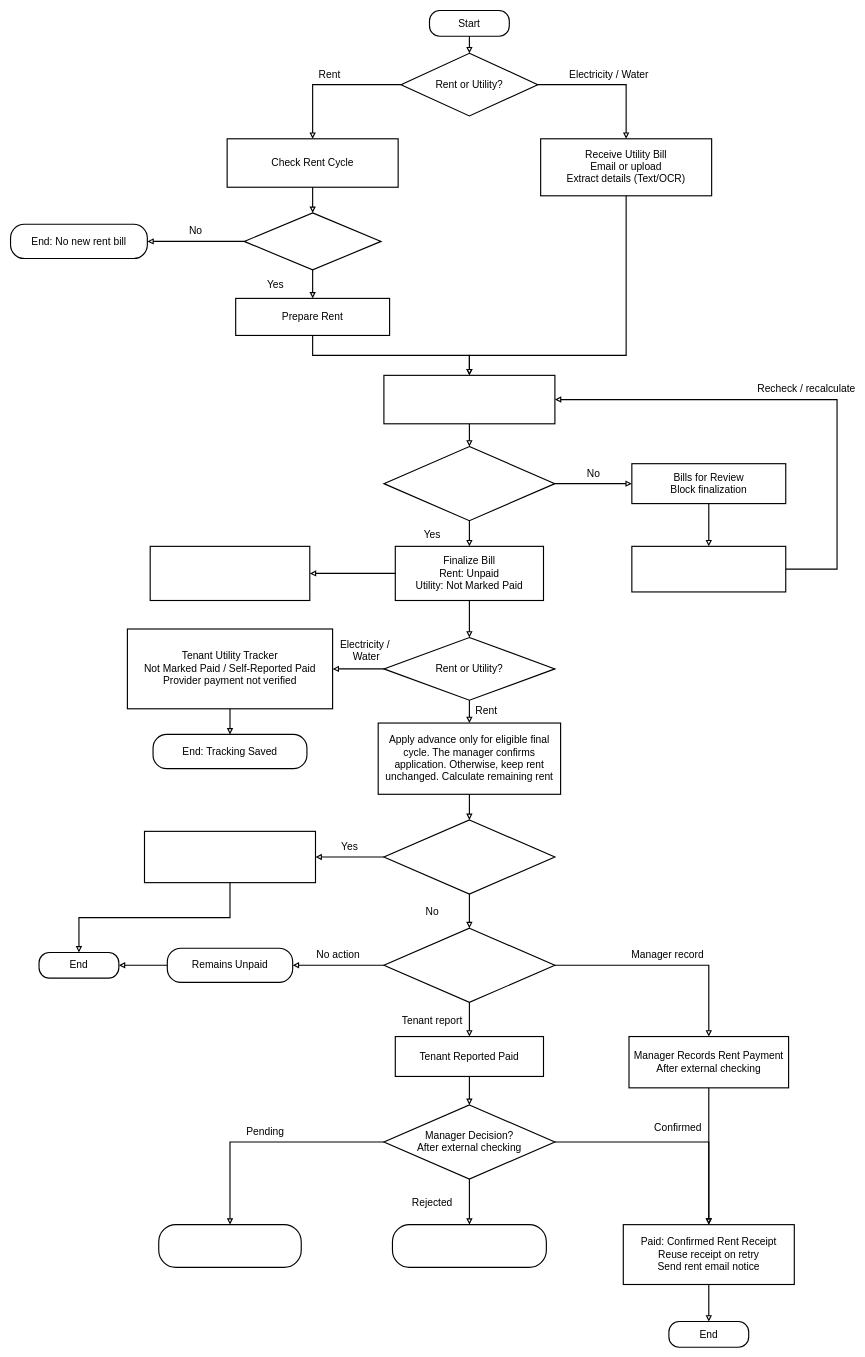
Some shapes in this 865 by 1357 pixel diagram are drawn without their labels. Each missing label, with the box of its shape:
Bill Valid? Shares Match Total?: (383, 446, 555, 521)
Check Bill and Calculate Shares Recheck corrected records: (383, 374, 555, 424)
Eligible cycle?: (243, 212, 381, 270)
Final Rent Fully Covered by Confirmed Advance?: (383, 819, 555, 894)
Keep Rejection Reason Return to Unpaid: (392, 1224, 547, 1268)
Manager Checks and Corrects Keep history: (631, 545, 786, 592)
Paid: Reuse Original Payment and Receipt No new cash payment: (144, 830, 316, 883)
Portal Alerts + Web Push Rent Email Updates: (149, 545, 310, 601)
Remains Tenant Reported Paid: (158, 1224, 302, 1268)
Rent Payment Action?: (383, 927, 555, 1003)
